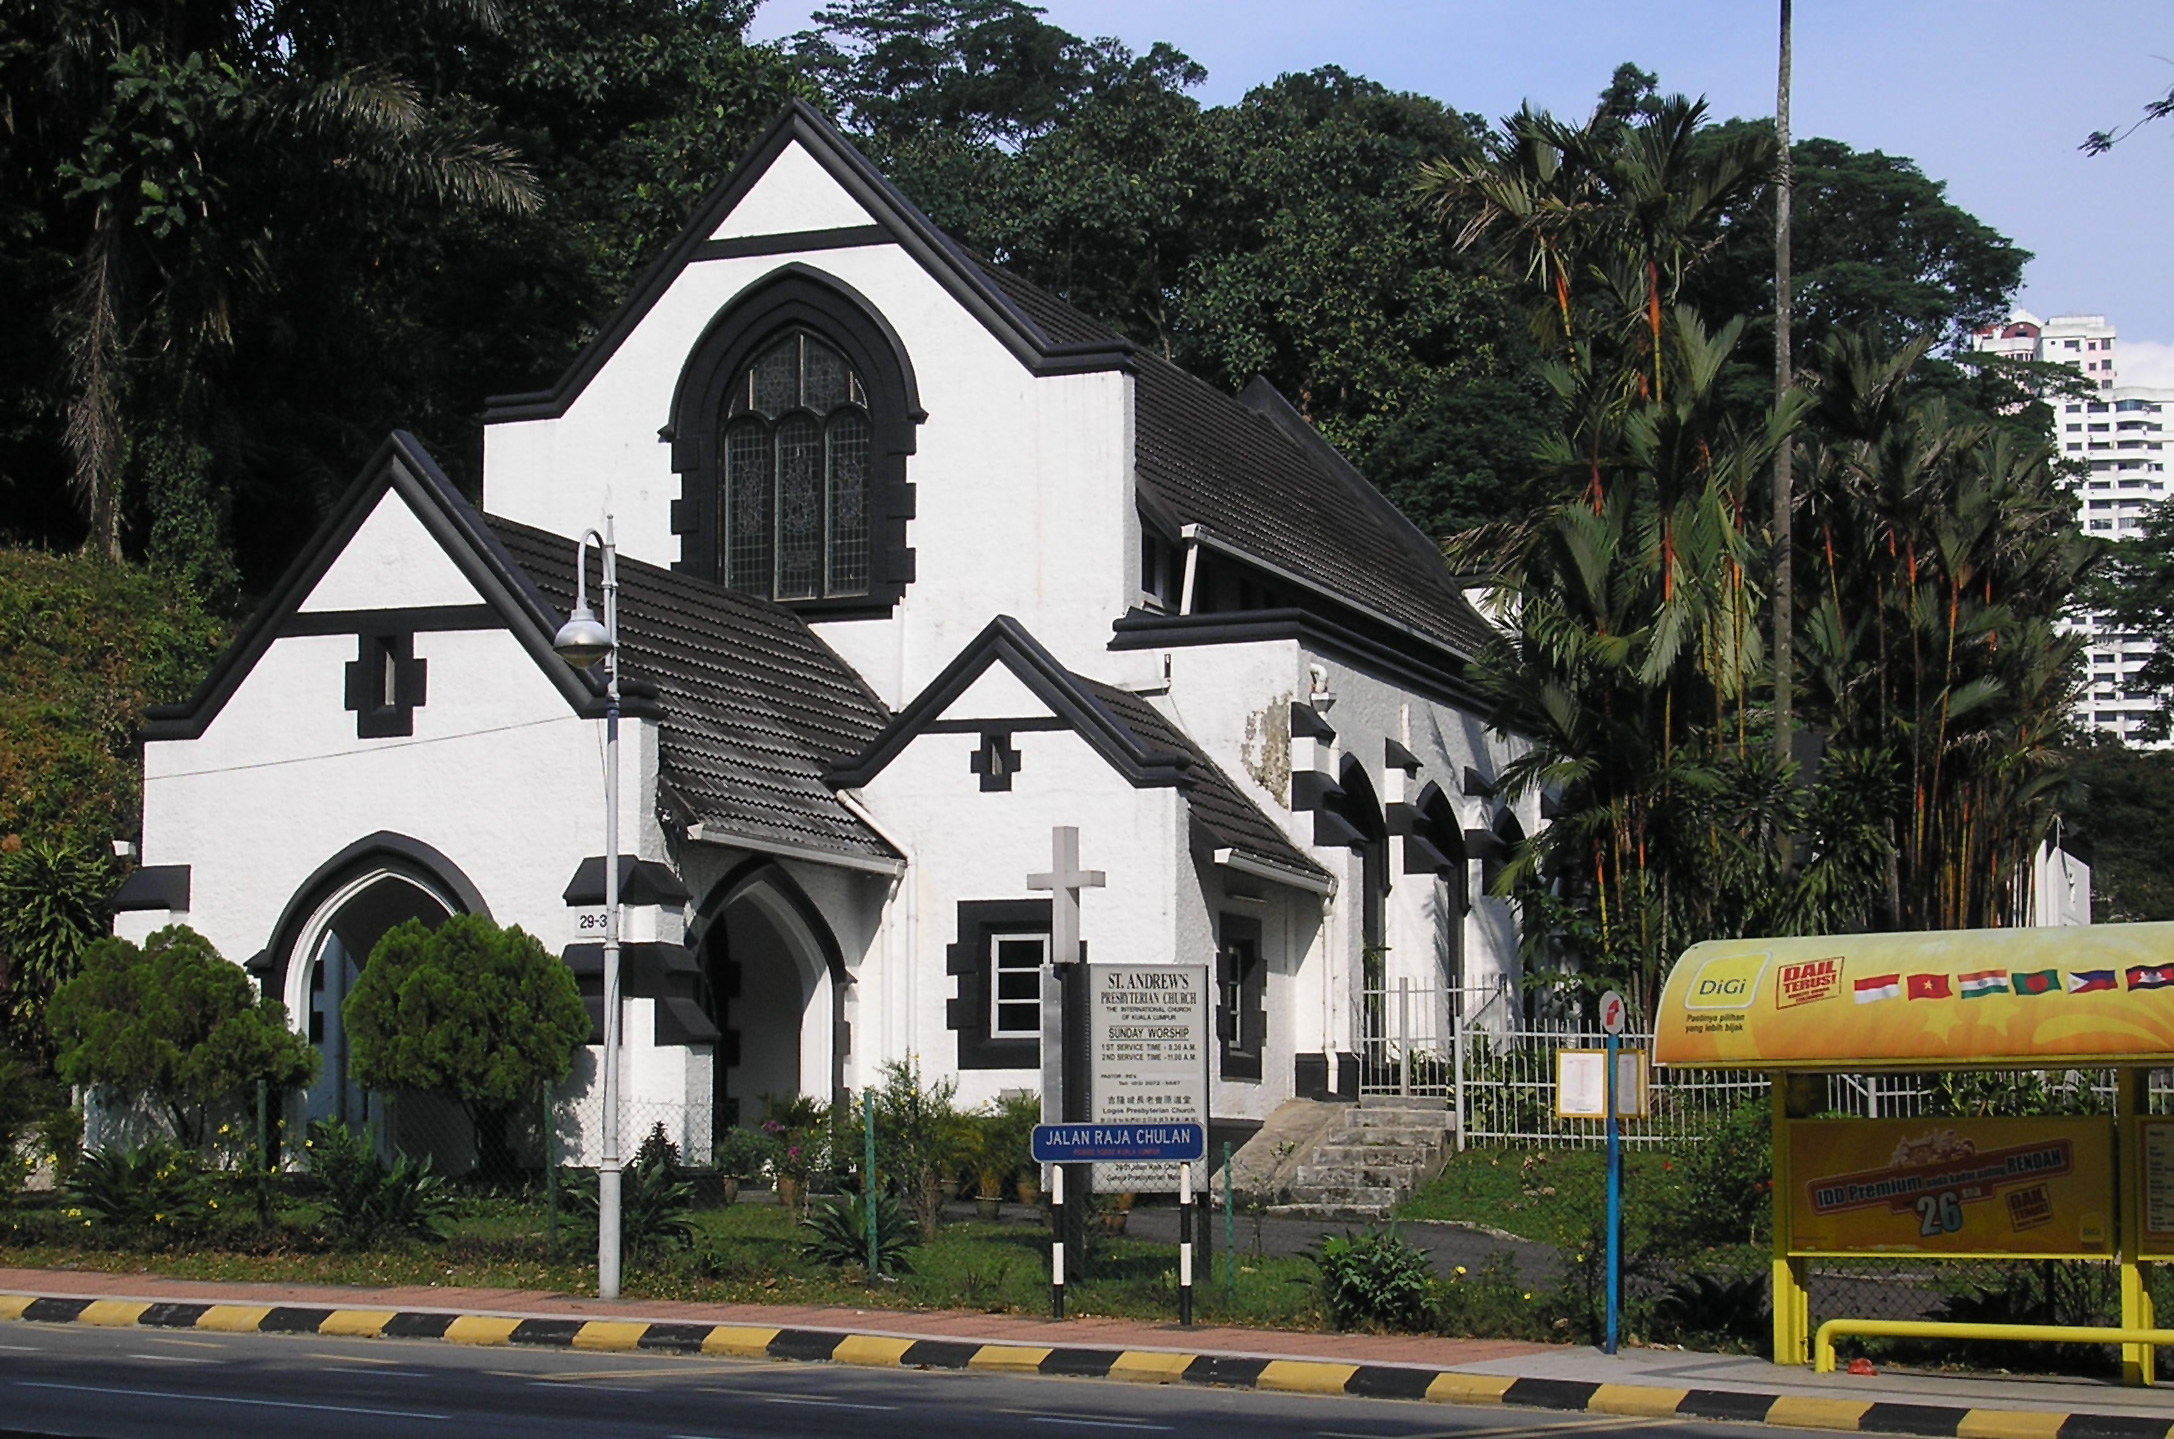Church: (151, 124, 1509, 1127)
